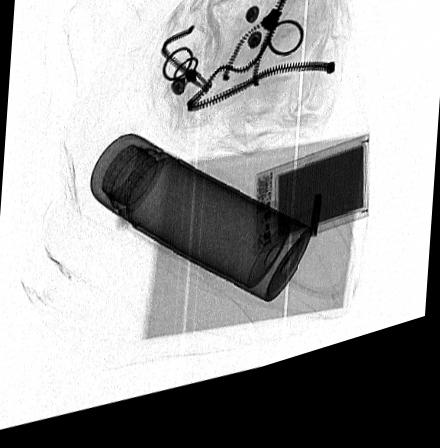Powerbank: (253, 154, 369, 272)
